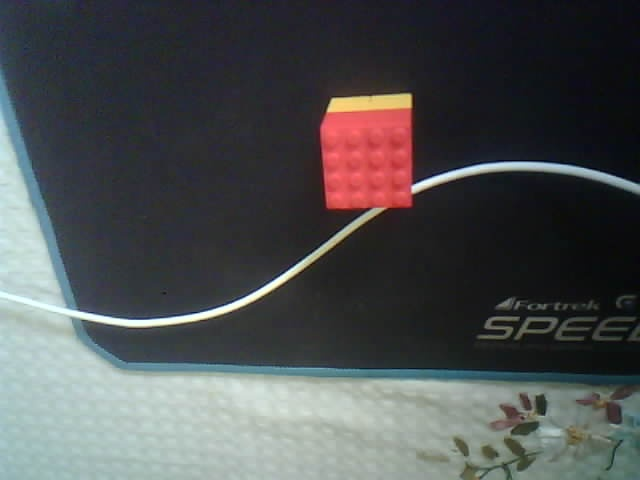lego: (318, 93, 413, 212)
